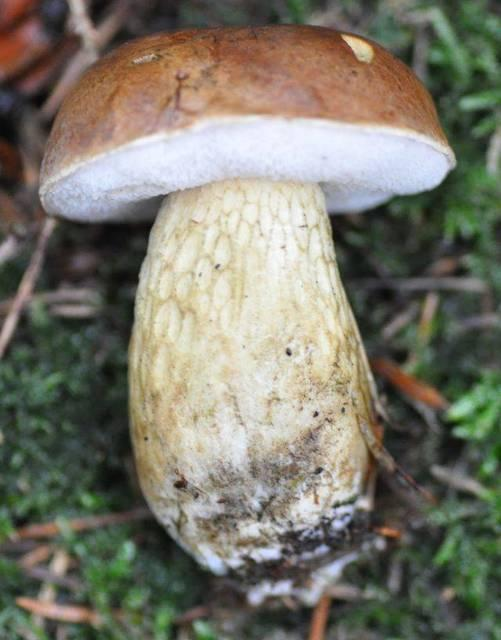Non-edible Mushroom: (36, 21, 457, 604)
